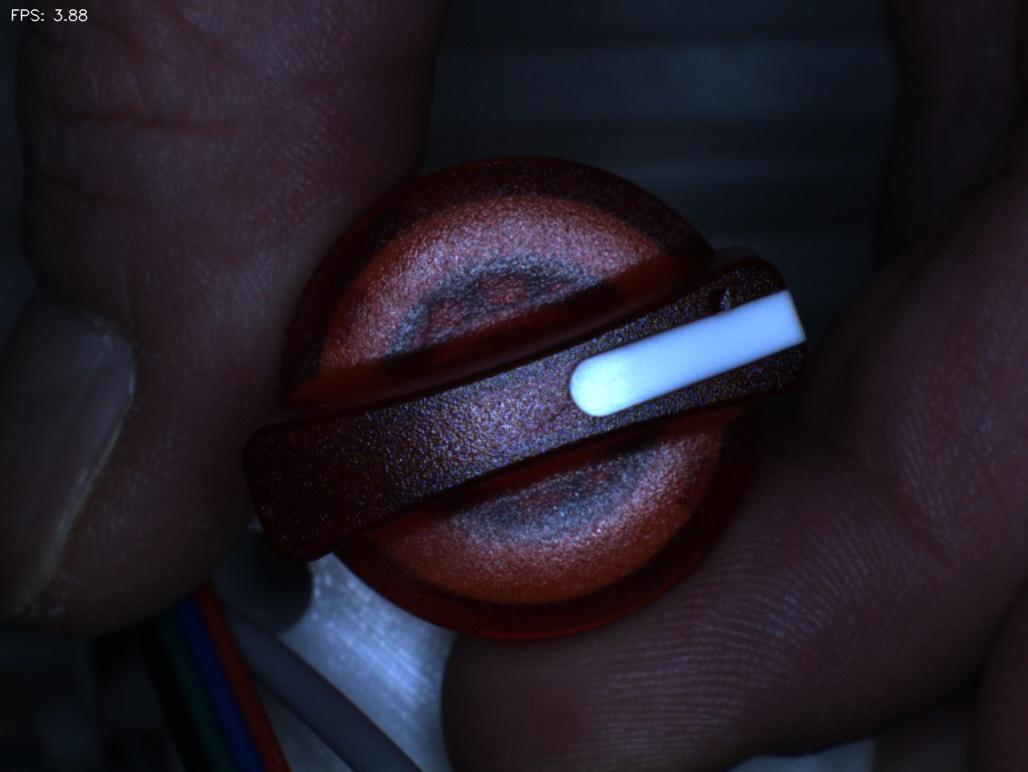Choc: (693, 242, 779, 336)
